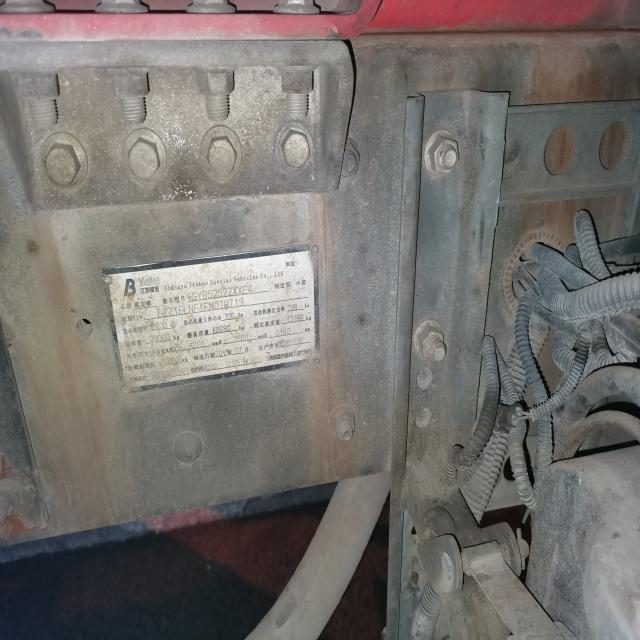bolt head: (42, 140, 82, 188), (126, 136, 162, 182), (205, 134, 238, 178), (280, 128, 312, 170)
bolt nut: (428, 134, 460, 177), (416, 321, 448, 363), (336, 140, 362, 178), (332, 409, 356, 442)
bolt side: (10, 65, 63, 105), (108, 63, 154, 104), (194, 63, 236, 101), (278, 63, 316, 100)
